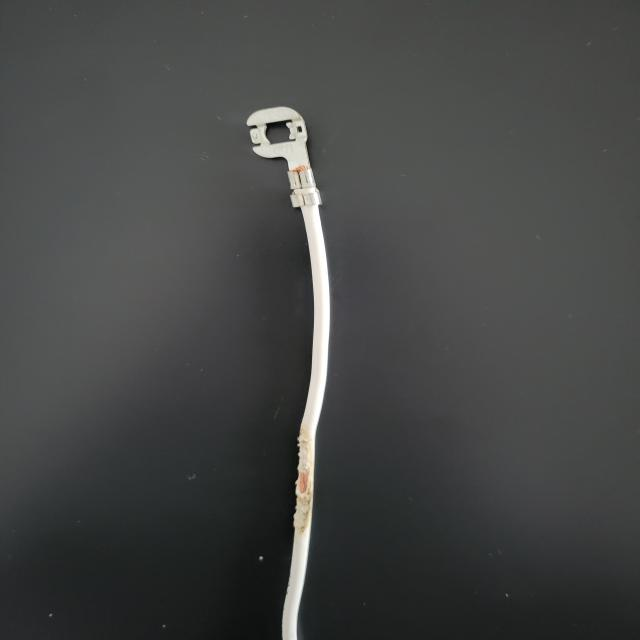defect: (278, 398, 346, 564)
